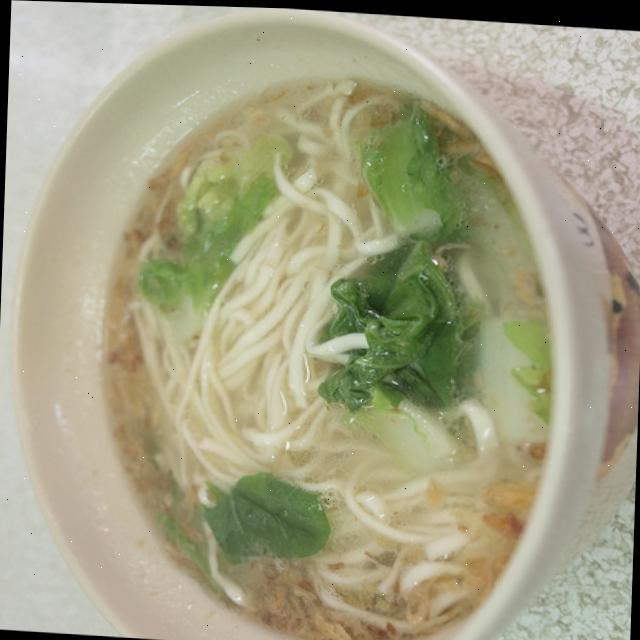面条主食: (58, 43, 589, 640)
